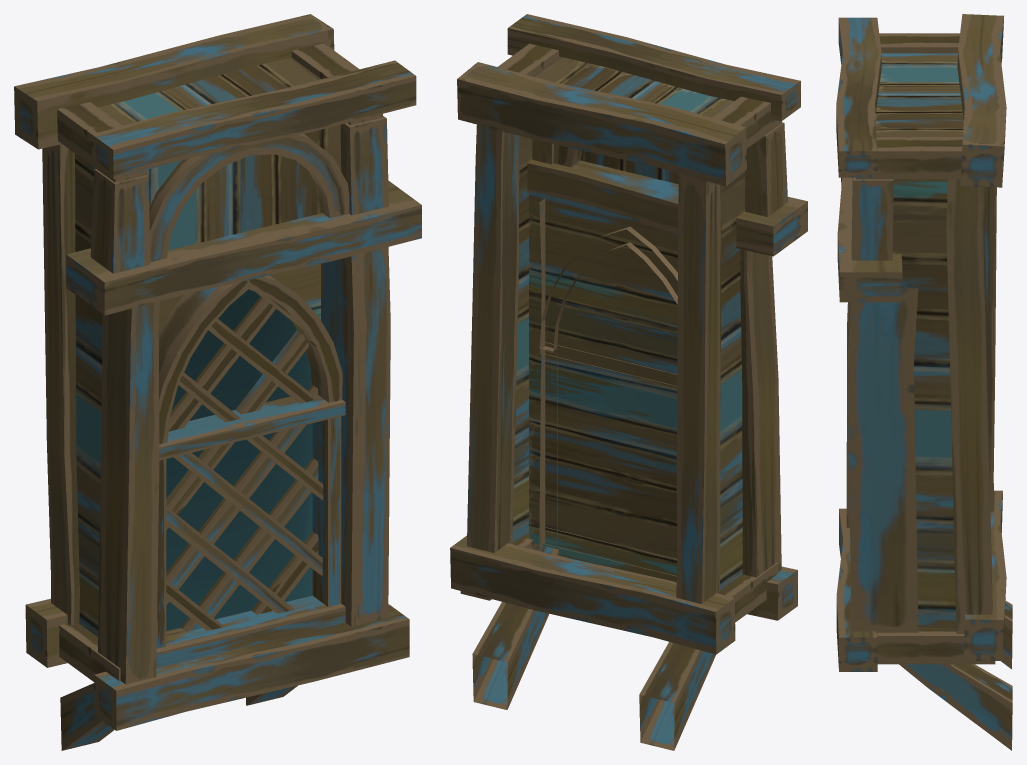
Rendered from A_Addon_BigWindow_B.FBX.
3 renders of one model, left to right at view 1: azimuth 30°, elevation 25°; view 2: azimuth 150°, elevation 25°; view 3: azimuth 270°, elevation 25°, orthographic. The views are drawn at different scales.
Parts seen in each view (by area): view 1: A_Addon_BigWindow_B; view 2: A_Addon_BigWindow_B; view 3: A_Addon_BigWindow_B.
Part boxes in pixels (box(x1,y1,x2,y2)): A_Addon_BigWindow_B: box(14, 14, 421, 750); A_Addon_BigWindow_B: box(450, 14, 807, 750); A_Addon_BigWindow_B: box(836, 14, 1012, 750).
Size of the model in its own units: 116 by 239 by 61.82.
1 material, 1 textured.
